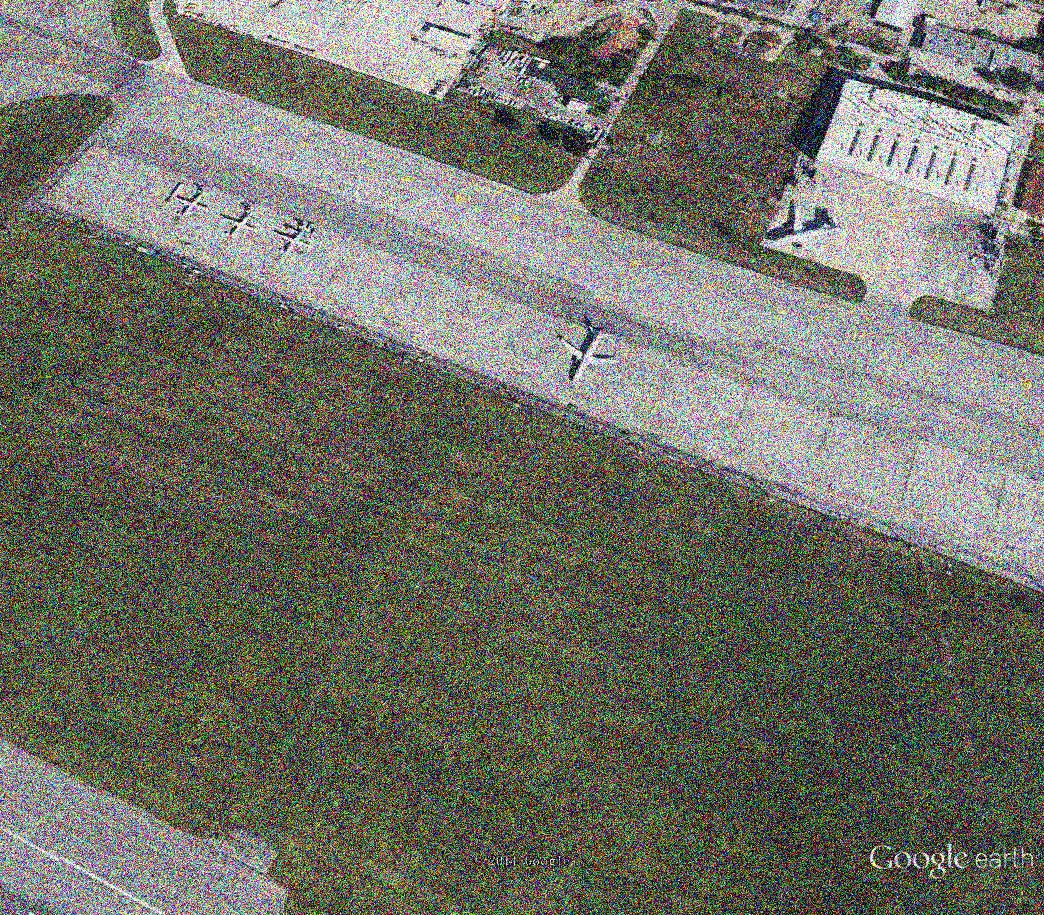aircraft: (763, 190, 849, 273), (555, 318, 625, 393), (216, 204, 261, 243), (273, 220, 315, 259), (175, 184, 214, 222)
